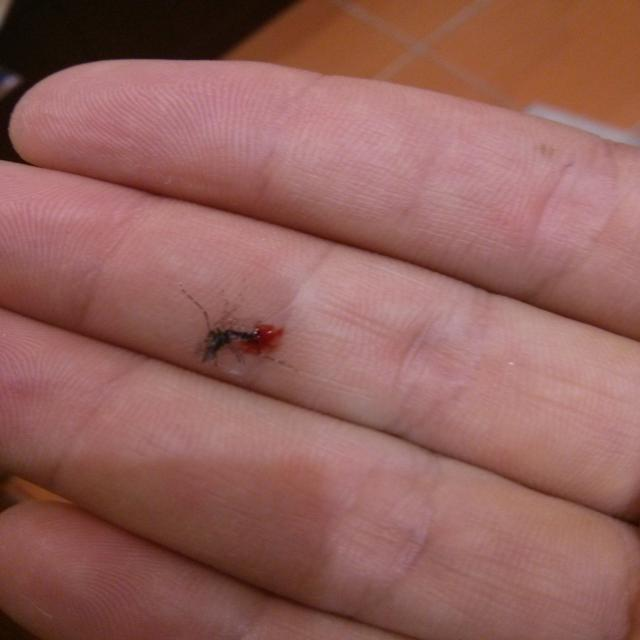albopictus: (165, 283, 275, 371)
